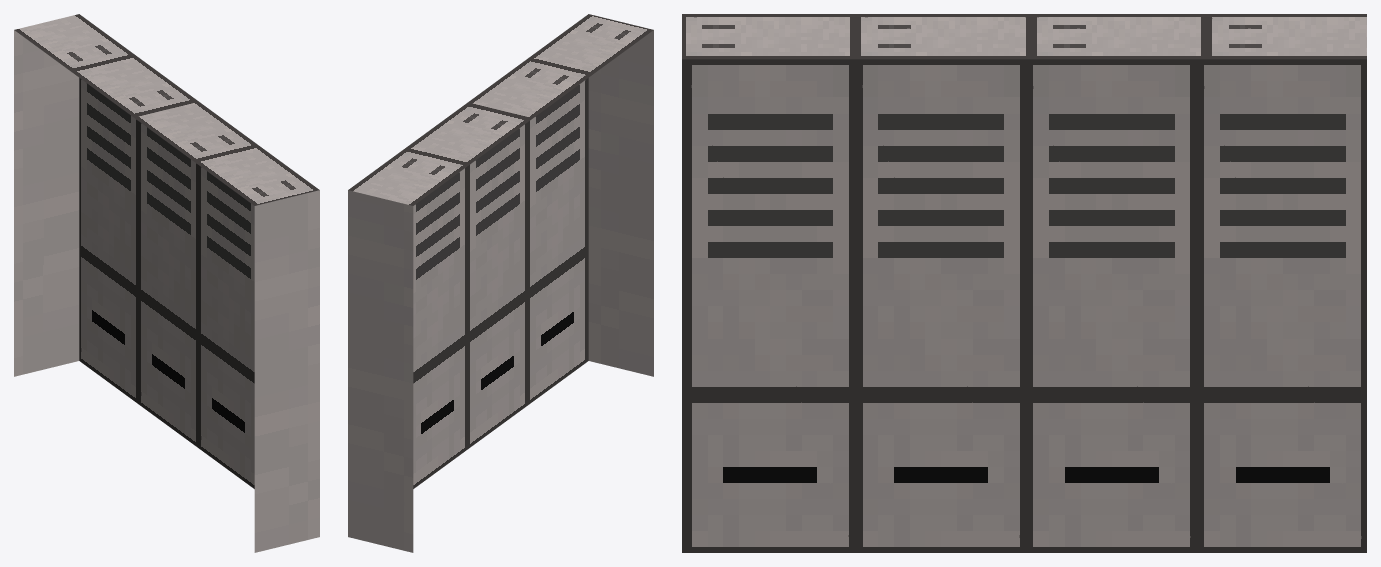
File: BLOCKYGON_SCHOOL DRAWER MEDIUM.fbx
The picture shows the model from 3 angles, left to right: view 1: azimuth 30°, elevation 25°; view 2: azimuth 150°, elevation 25°; view 3: azimuth 270°, elevation 25°; orthographic projection. The views are drawn at different scales.
Visible parts, largest first — view 1: BLOCKYGON_SCHOOL_DRAWER_MEDIUM; view 2: BLOCKYGON_SCHOOL_DRAWER_MEDIUM; view 3: BLOCKYGON_SCHOOL_DRAWER_MEDIUM.
Part boxes in pixels (x1,y1,x2,y2): BLOCKYGON_SCHOOL_DRAWER_MEDIUM: [14, 14, 319, 552]; BLOCKYGON_SCHOOL_DRAWER_MEDIUM: [348, 14, 653, 552]; BLOCKYGON_SCHOOL_DRAWER_MEDIUM: [682, 14, 1366, 552].
Bounding box in the file's own units: 36.42 × 185 × 233.
1 material, 1 textured.
